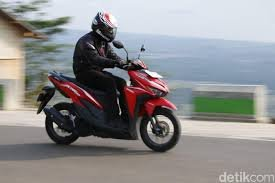motor: (36, 58, 182, 153)
